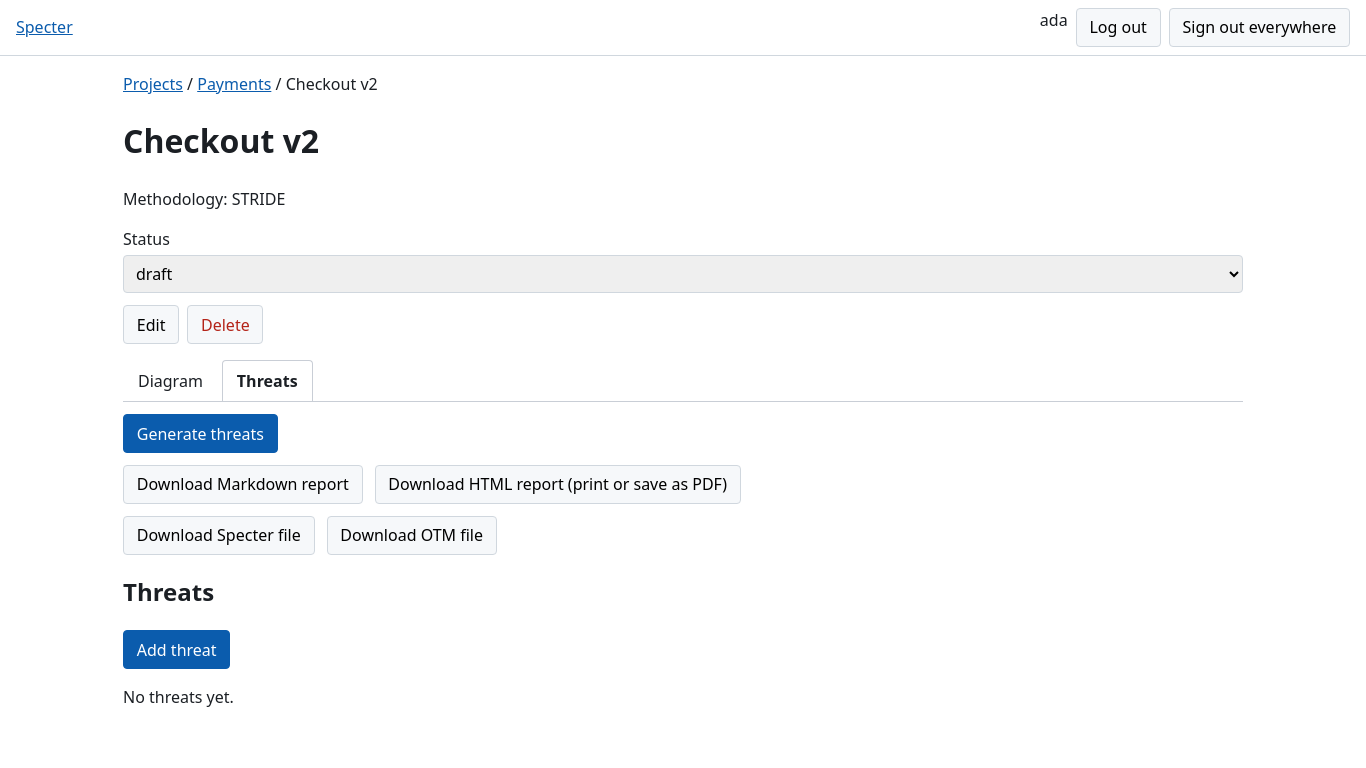
Test case: ThreatModelPage header › asks before deleting, then returns to the project page
Click the button "Delete": coordinates (225, 325) [187, 305, 264, 344]
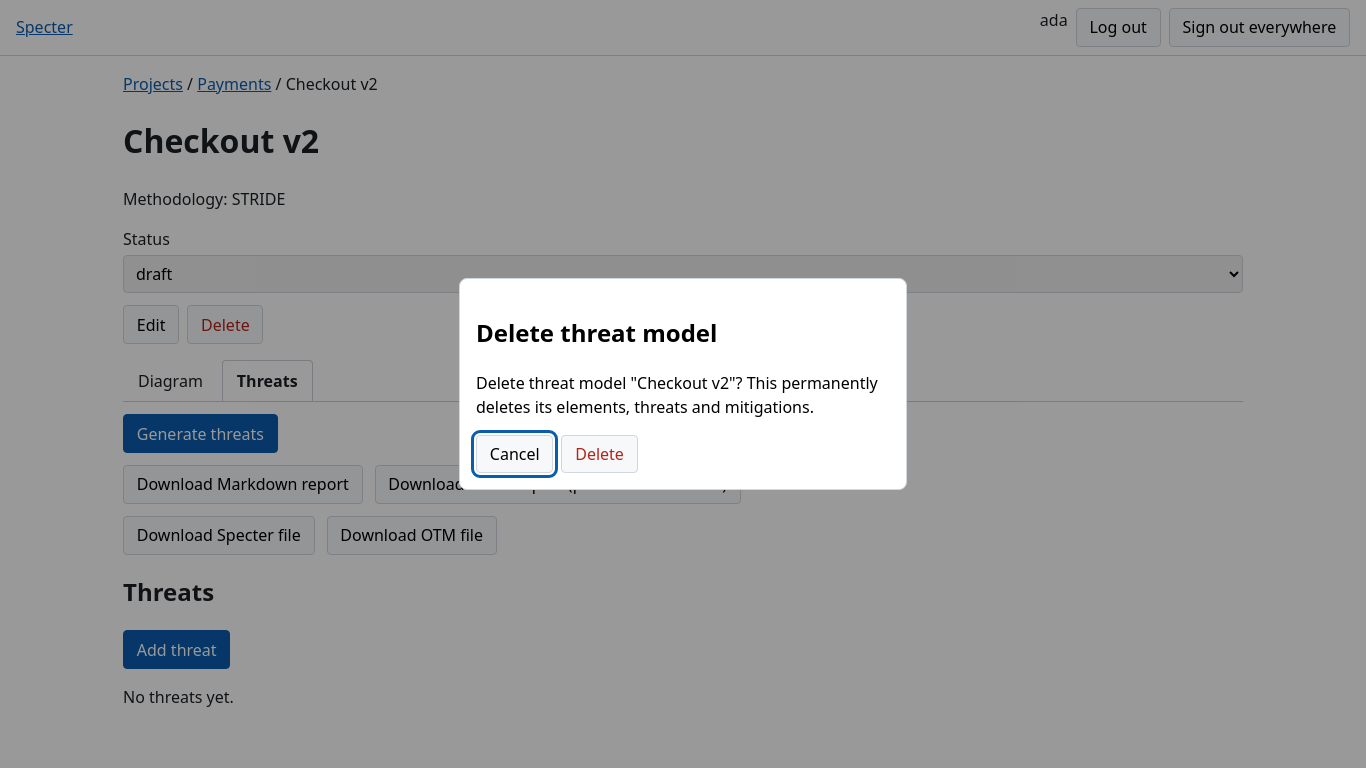
Now the text "Delete threat model \"Checkout v2\"? This permanently deletes its elements, threats and mitigations." is shown, box [476, 372, 878, 418]
Click the button with class "danger" showing "Delete": coordinates (600, 454) [561, 434, 638, 473]
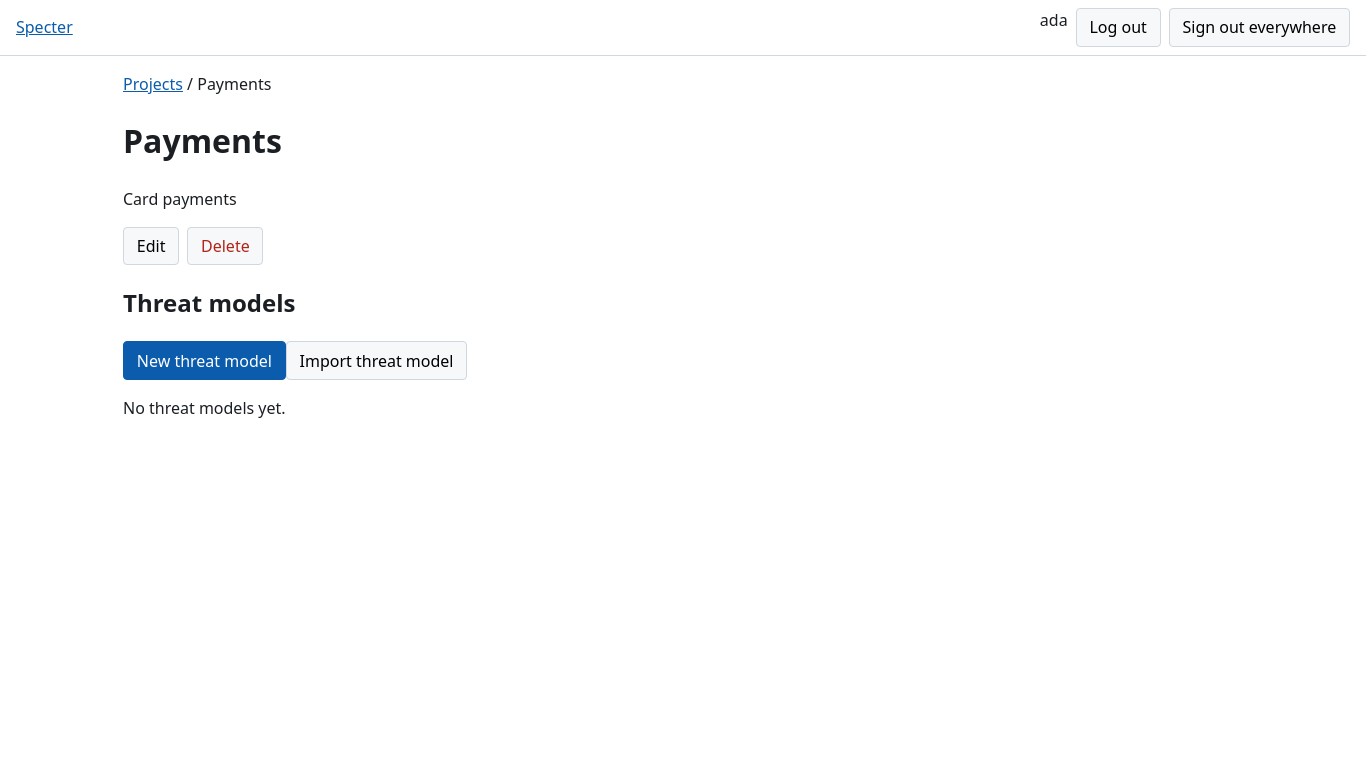
Now the text "No threat models yet." is shown, box [123, 397, 286, 419]
